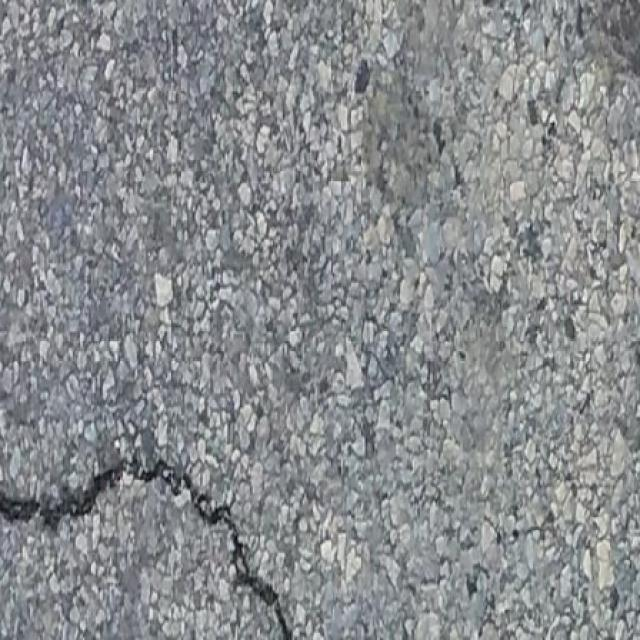Diagonal Crack: (0, 448, 311, 640)
